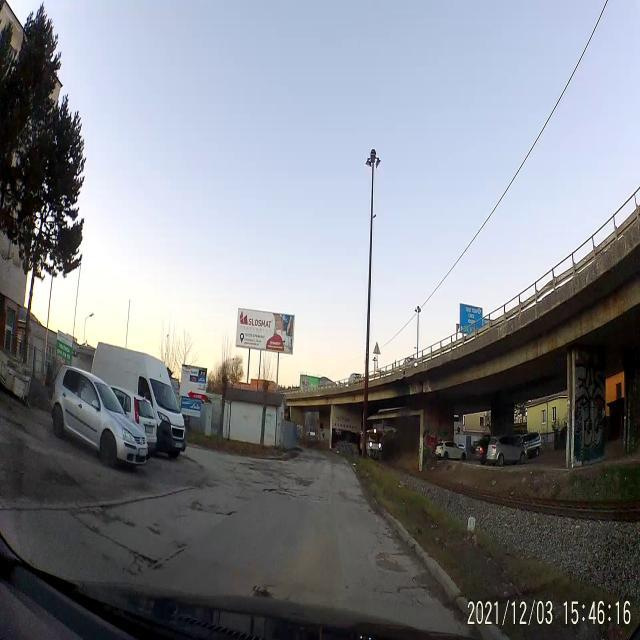Pothole: (128, 549, 162, 576), (258, 482, 302, 499), (218, 506, 235, 518)
